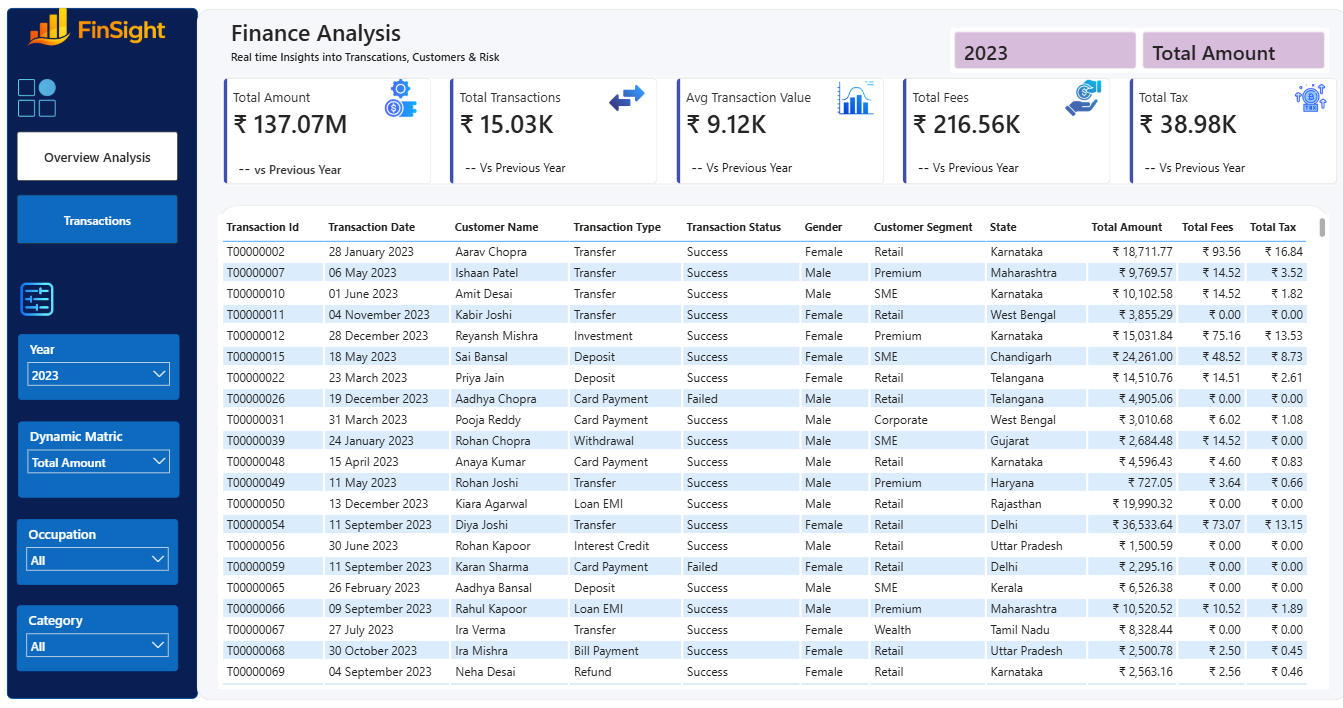

This screenshot's page, from the dashboard's own definition file:
{"tool":"powerbi","page":{"name":"Transactions","canvas":[1800,950],"ordinal":1},"visuals":[{"type":"shape","box":[11.7,11.7,255,921.7],"z":0},{"type":"shape","box":[265,13.3,1535,921.7],"z":1000},{"type":"image","box":[0,0,266.7,75],"z":2000},{"type":"cardVisual","fields":{"Data":["finance_transactions.Dashboard Title"]},"box":[293.3,11.7,458.3,86.7],"z":3000},{"type":"cardVisual","fields":{"Data":["finance_transactions.Total Amount","finance_transactions.Total Transaction","finance_transactions.Avg Transaction Value","finance_transactions.Total Fees","finance_transactions.Total Tax"]},"box":[293.3,98.3,1503.3,155],"z":4000},{"type":"image","box":[511.7,106.7,50,50],"z":5000},{"type":"image","box":[813.3,106.7,50,50],"z":6000},{"type":"image","box":[1421.7,106.7,50,50],"z":7000},{"type":"image","box":[1118.3,106.7,50,50],"z":8000},{"type":"image","box":[1725,106.7,50,50],"z":9000},{"type":"shape","box":[293.3,275,1481.7,643.3],"z":10000},{"type":"cardVisual","fields":{"Data":["finance_transactions.Selected Year","finance_transactions.Selected Dynamic Measure"]},"box":[1270,38.3,505,60],"z":11000},{"type":"tableEx","fields":{"Values":["finance_transactions.transaction_id","finance_transactions.transaction_date","customers.customer_name","finance_transactions.transaction_type","finance_transactions.transaction_status","customers.gender","customers.customer_segment","customers.state","finance_transactions.Total Amount","finance_transactions.Total Fees","finance_transactions.Total Tax"]},"box":[293.3,286.7,1481.7,633.3],"z":12000},{"type":"slicer","fields":{"Values":["Calendar Table.Year"]},"box":[26.7,446.7,215,88.3],"z":13000},{"type":"slicer","fields":{"Values":["Dynamic Matric.Dynamic Matric"]},"box":[26.7,563.3,215,101.7],"z":14000},{"type":"slicer","fields":{"Values":["customers.occupation"]},"box":[25,693.3,215,88.3],"z":15000},{"type":"slicer","fields":{"Values":["finance_transactions.merchant_category"]},"box":[25,808.3,215,88.3],"z":16000},{"type":"pageNavigator","box":[25,176.7,215,151.7],"z":17000},{"type":"image","box":[26.7,106.7,50,50],"z":18000},{"type":"image","box":[26.7,375,50,50],"z":19000}]}

Visuals, with their boxes on the page's 1800x950 design canvas (x1, y1, x2, y2). These are canvas units, not pixel positions in the 1343x708 screenshot, which may show the page scaled, cropped or inside an application window:
shape: region(12, 12, 267, 933)
shape: region(265, 13, 1800, 935)
image: region(0, 0, 267, 75)
cardVisual - finance_transactions.Dashboard Title: region(293, 12, 752, 98)
cardVisual - finance_transactions.Total Amount x finance_transactions.Total Transaction: region(293, 98, 1797, 253)
image: region(512, 107, 562, 157)
image: region(813, 107, 863, 157)
image: region(1422, 107, 1472, 157)
image: region(1118, 107, 1168, 157)
image: region(1725, 107, 1775, 157)
shape: region(293, 275, 1775, 918)
cardVisual - finance_transactions.Selected Year x finance_transactions.Selected Dynamic Measure: region(1270, 38, 1775, 98)
tableEx - finance_transactions.transaction_id x finance_transactions.transaction_date: region(293, 287, 1775, 920)
slicer - Calendar Table.Year: region(27, 447, 242, 535)
slicer - Dynamic Matric.Dynamic Matric: region(27, 563, 242, 665)
slicer - customers.occupation: region(25, 693, 240, 782)
slicer - finance_transactions.merchant_category: region(25, 808, 240, 897)
pageNavigator: region(25, 177, 240, 328)
image: region(27, 107, 77, 157)
image: region(27, 375, 77, 425)
